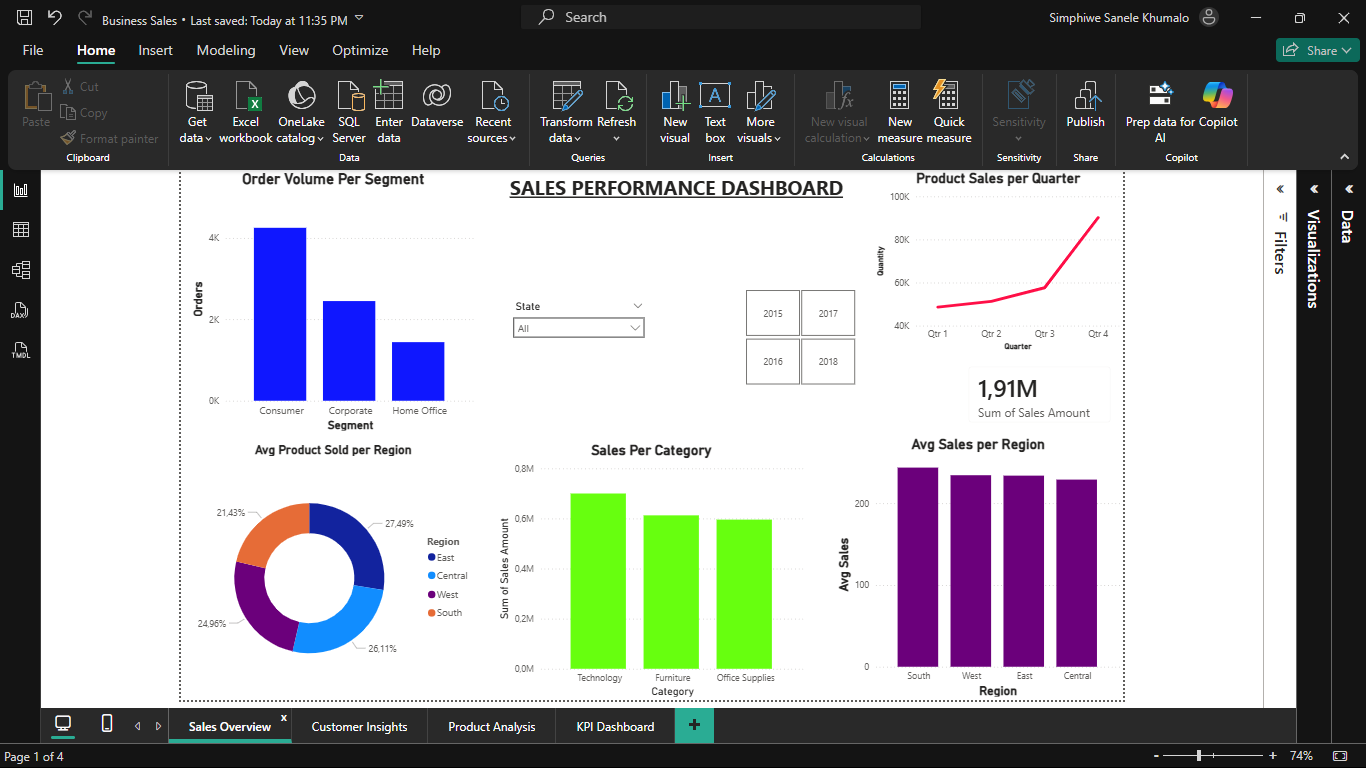

What the dashboard file says about the page in this screenshot:
{"tool":"powerbi","page":{"name":"Sales Overview","canvas":[1280,720],"ordinal":0},"visuals":[{"type":"clusteredColumnChart","title":"Order Volume Per Segment","fields":{"Category":["Sales_Info.Segment"],"Y":["CountNonNull(Sales_Info.Order ID)"]},"box":[10.1,0,394.8,359.5],"z":0},{"type":"donutChart","title":"Avg Product Sold per Region","fields":{"Category":["Sales_Info.Region"],"Y":["Sales_Info.Avg Product Sold"]},"box":[10.1,369.6,394.8,351.1],"z":1},{"type":"clusteredColumnChart","title":"Avg Sales per Region","fields":{"Category":["Sales_Info.Region"],"Y":["Sales_Info.Avg Sales"]},"box":[885.2,361.2,394.8,359.5],"z":2},{"type":"clusteredColumnChart","title":"Sales Per Category","fields":{"Y":["Sum(Sales_Info.Sales Amount)"],"Category":["Sales_Info.Category"]},"box":[426.7,369.6,425,351.1],"z":3},{"type":"cardVisual","fields":{"Data":["Sum(Sales_Info.Sales Amount)"]},"box":[1052.9,250.5,227.1,110.1],"z":4},{"type":"slicer","fields":{"Values":["Sales_Info.State"]},"box":[441.8,172,198.2,78.5],"z":5},{"type":"lineChart","title":"Product Sales per Quarter","fields":{"Category":["Sales_Info.Order Date.Variation.Date Hierarchy.Quarter"],"Y":["Sum(Sales_Info.Quantity)"]},"box":[940,0,340,250.5],"z":6},{"type":"slicer","fields":{"Values":["Sales_Info.Order Date.Variation.Date Hierarchy.Year"]},"box":[741.8,156.9,198.2,141.8],"z":7},{"type":"textbox","box":[441.8,0,475.4,142.8],"z":8}]}

Visuals, with their boxes on the page's 1280x720 design canvas (x1, y1, x2, y2). These are canvas units, not pixel positions in the 1366x768 screenshot, which may show the page scaled, cropped or inside an application window:
"Order Volume Per Segment" clusteredColumnChart: [10, 0, 405, 360]
"Avg Product Sold per Region" donutChart: [10, 370, 405, 721]
"Avg Sales per Region" clusteredColumnChart: [885, 361, 1280, 721]
"Sales Per Category" clusteredColumnChart: [427, 370, 852, 721]
cardVisual - Sum(Sales_Info.Sales Amount): [1053, 250, 1280, 361]
slicer - Sales_Info.State: [442, 172, 640, 250]
"Product Sales per Quarter" lineChart: [940, 0, 1280, 250]
slicer - Sales_Info.Order Date.Variation.Date Hierarchy.Year: [742, 157, 940, 299]
textbox: [442, 0, 917, 143]
